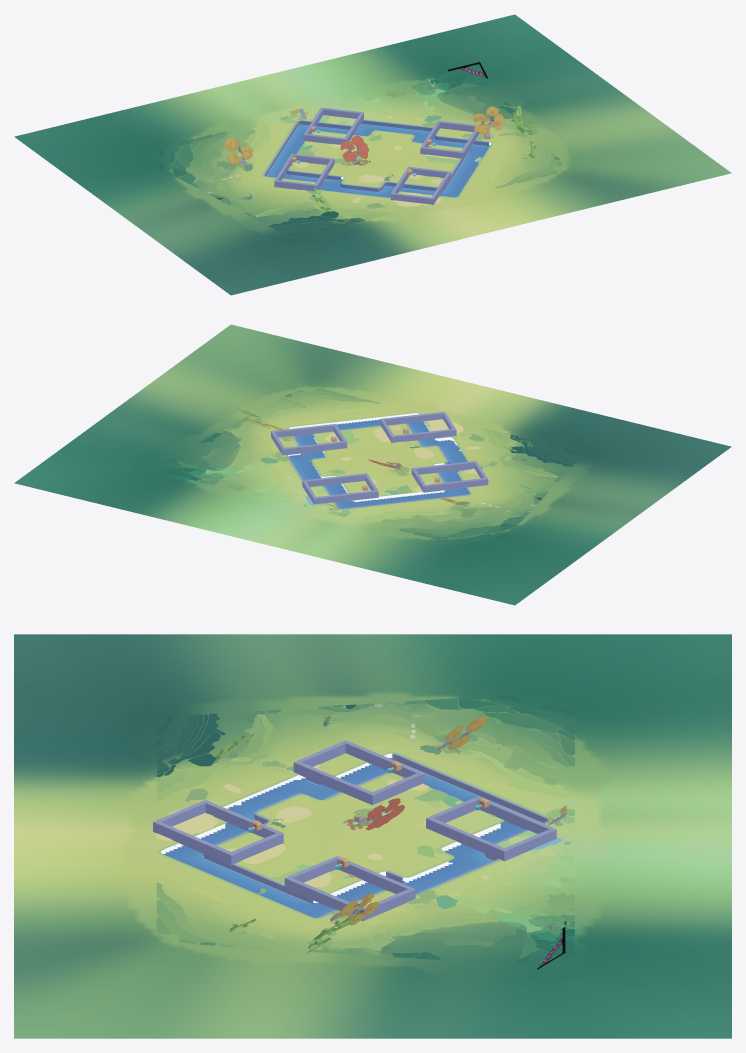
Rendered from plaza.glb.
3 renders of one model, top to bottom at view 1: azimuth 30°, elevation 25°; view 2: azimuth 150°, elevation 25°; view 3: azimuth 270°, elevation 25°, orthographic. The views are drawn at different scales.
Visible parts, largest first — view 1: GROUND, GROUND_SHAPES, MOAT_BANKS, FOUNTAIN_water, CARD_tree_red, CARD_tree_e, CARD_tree_w; view 2: GROUND, GROUND_SHAPES, FOUNTAIN_water, MOAT_BANKS, PEN_0_wall1, PEN_2_wall1, PEN_1_wall1, PEN_3_wall1, PEN_0_wall0, PEN_1_wall0, PEN_3_wall0, PEN_2_wall0; view 3: GROUND, GROUND_SHAPES, FOUNTAIN_water, MOAT_BANKS, PEN_0_wall0, PEN_3_wall0, PEN_1_wall0, PEN_0_wall1, PEN_2_wall1, PEN_1_wall1, PEN_3_wall1, CARD_tree_red (+3 smaller).
Part boxes in pixels (<box>): GROUND: <box>14,14,731,295</box>; GROUND_SHAPES: <box>156,73,562,236</box>; MOAT_BANKS: <box>260,118,495,199</box>; FOUNTAIN_water: <box>264,124,490,197</box>; CARD_tree_red: <box>340,135,370,165</box>; CARD_tree_e: <box>472,106,504,139</box>; CARD_tree_w: <box>225,138,253,171</box>; GROUND: <box>14,324,731,605</box>; GROUND_SHAPES: <box>162,387,582,546</box>; FOUNTAIN_water: <box>289,419,470,508</box>; MOAT_BANKS: <box>283,411,474,510</box>; PEN_0_wall1: <box>422,477,488,492</box>; PEN_2_wall1: <box>281,441,347,455</box>; PEN_1_wall1: <box>313,490,378,504</box>; PEN_3_wall1: <box>390,428,456,442</box>; PEN_0_wall0: <box>411,461,476,475</box>; PEN_1_wall0: <box>302,473,367,487</box>; PEN_3_wall0: <box>380,411,445,425</box>; PEN_2_wall0: <box>271,424,335,437</box>; GROUND: <box>14,634,731,1038</box>; GROUND_SHAPES: <box>156,695,574,965</box>; FOUNTAIN_water: <box>163,758,536,917</box>; MOAT_BANKS: <box>154,750,555,920</box>; PEN_0_wall0: <box>293,761,376,805</box>; PEN_3_wall0: <box>153,820,234,865</box>; PEN_1_wall0: <box>426,817,507,861</box>; PEN_0_wall1: <box>343,740,424,783</box>; PEN_2_wall1: <box>334,856,415,899</box>; PEN_1_wall1: <box>475,796,556,839</box>; PEN_3_wall1: <box>202,800,283,844</box>; CARD_tree_red: <box>343,798,404,830</box>.
Bounding box in the file's own units: 120 × 5.64 × 90.
